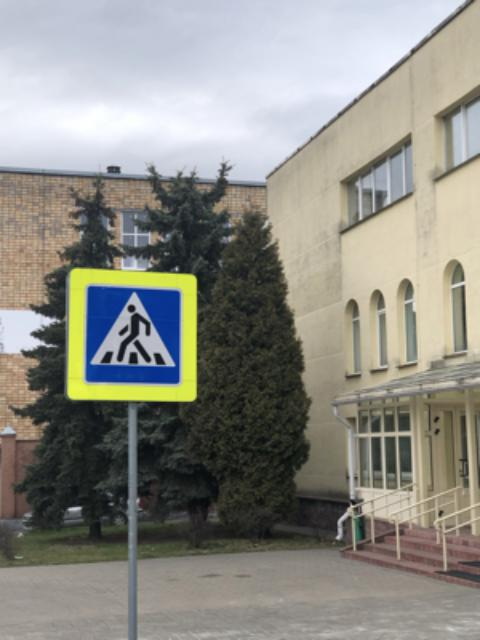crosswalk-sign: (65, 266, 199, 405)
